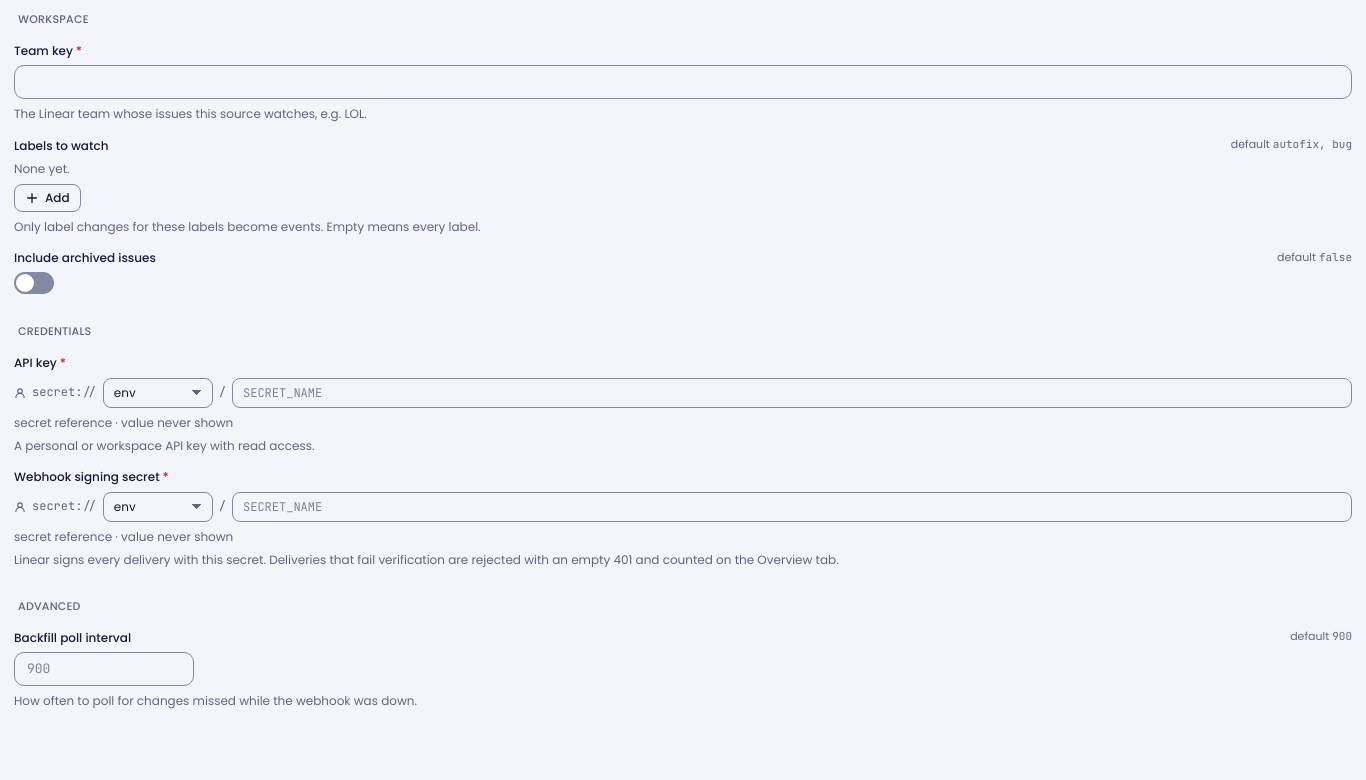
SchemaForm › only shows messages for touched fields until asked for all
Type "X" into the field labelled "Team key *" at (683, 82), box [14, 65, 1352, 99]
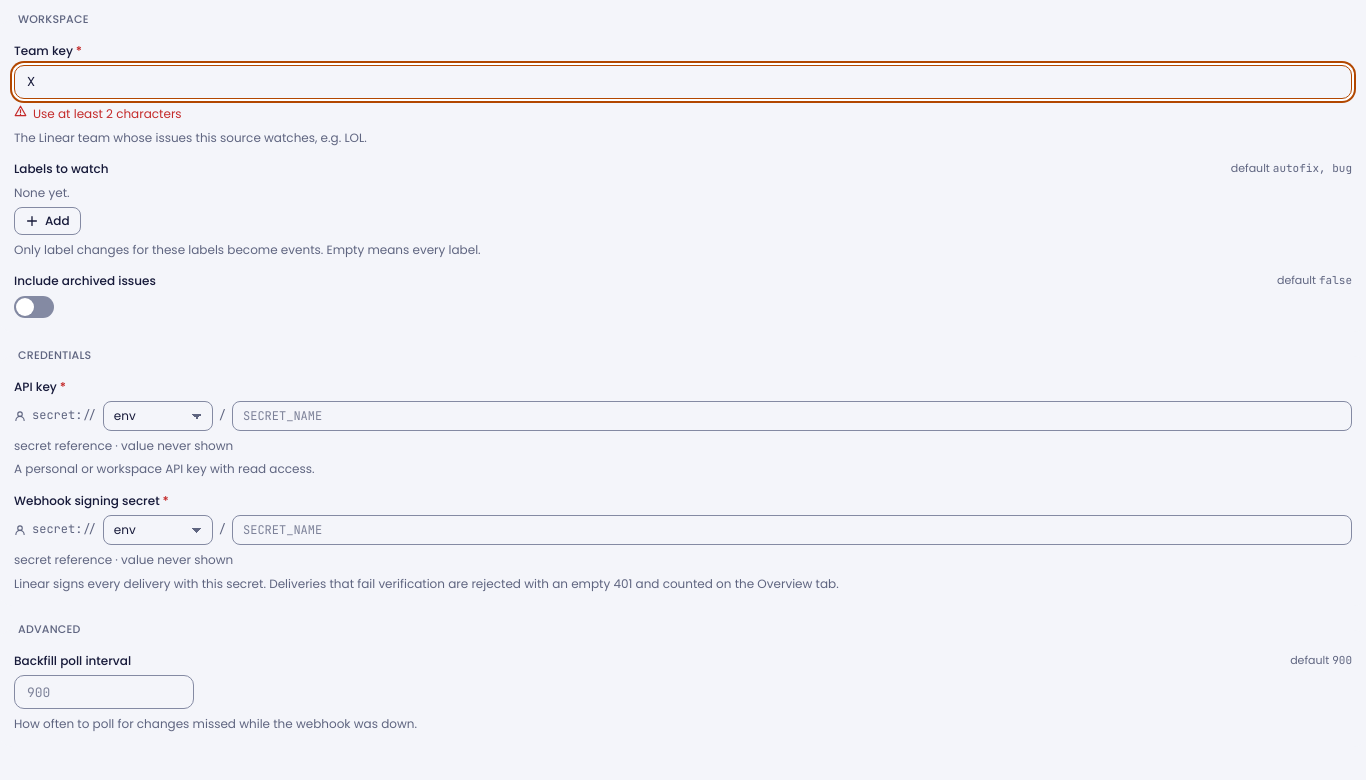
Check: the text "Use at least 2 characters" is shown, box [14, 105, 182, 122]
